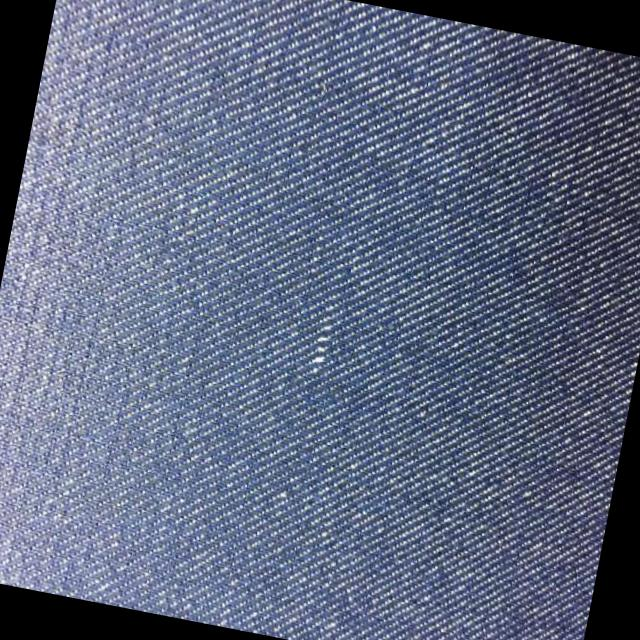Warp_Weft: (309, 302, 340, 375)
